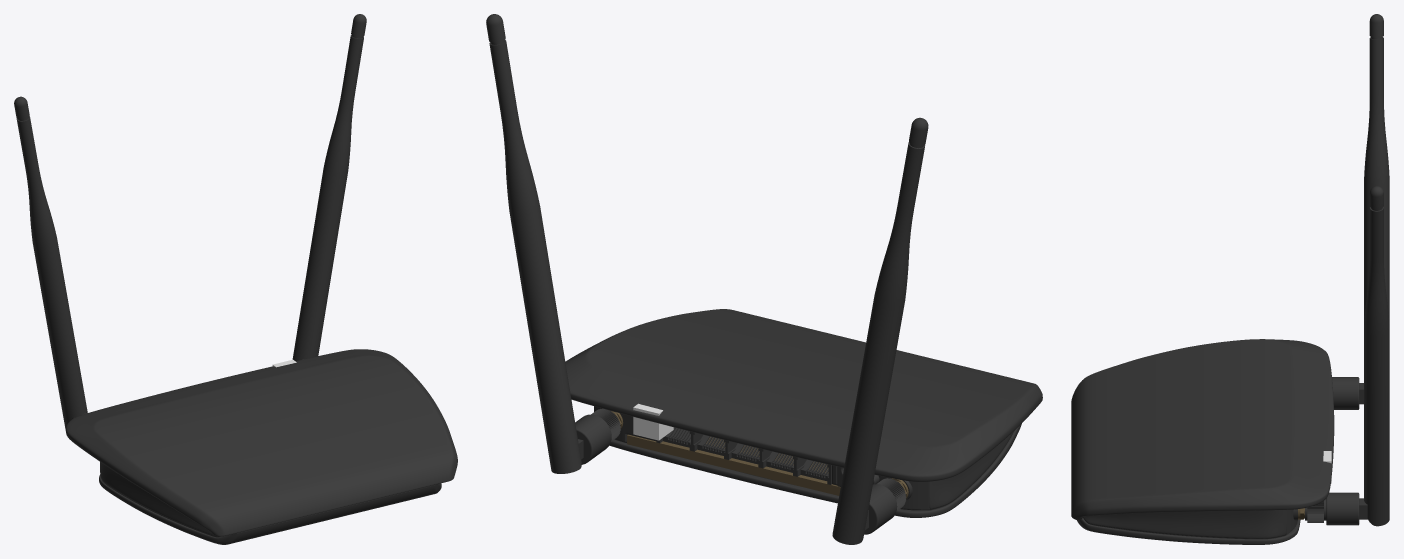
File: switch.glb
3 views of the same model, side by side, from view 1: azimuth 30°, elevation 25°; view 2: azimuth 150°, elevation 25°; view 3: azimuth 270°, elevation 25° (orthographic). The views are drawn at different scales.
Visible parts, largest first — view 1: Zyxel NBG-418N v2_p009, Zyxel NBG-418N v2_p003, Zyxel NBG-418N v2_p006, Zyxel NBG-418N v2_p008, Zyxel NBG-418N v2_p010; view 2: Zyxel NBG-418N v2_p009, Zyxel NBG-418N v2_p003, Zyxel NBG-418N v2_p006, Zyxel NBG-418N v2_p004, Zyxel NBG-418N v2_p008, Zyxel NBG-418N v2_p007, Zyxel NBG-418N v2_p010, Zyxel NBG-418N v2_p002, Zyxel NBG-418N v2_p001, Port; view 3: Zyxel NBG-418N v2_p009, Zyxel NBG-418N v2_p003, Zyxel NBG-418N v2_p010, Zyxel NBG-418N v2_p006, Zyxel NBG-418N v2_p007, Zyxel NBG-418N v2_p008, Zyxel NBG-418N v2_p002.
Part boxes in pixels (x1,y1,x2,y2): Zyxel NBG-418N v2_p009: (65, 349, 457, 536); Zyxel NBG-418N v2_p003: (292, 14, 366, 360); Zyxel NBG-418N v2_p006: (14, 96, 87, 429); Zyxel NBG-418N v2_p008: (99, 474, 441, 544); Zyxel NBG-418N v2_p010: (100, 462, 220, 537); Zyxel NBG-418N v2_p009: (565, 309, 1042, 481); Zyxel NBG-418N v2_p003: (486, 14, 581, 473); Zyxel NBG-418N v2_p006: (832, 117, 928, 544); Zyxel NBG-418N v2_p004: (627, 427, 840, 495); Zyxel NBG-418N v2_p008: (609, 423, 1021, 517); Zyxel NBG-418N v2_p007: (575, 408, 624, 464); Zyxel NBG-418N v2_p010: (929, 431, 1013, 510); Zyxel NBG-418N v2_p002: (864, 478, 912, 534); Zyxel NBG-418N v2_p001: (832, 465, 929, 510); Port: (633, 403, 673, 440); Zyxel NBG-418N v2_p009: (1071, 339, 1334, 520); Zyxel NBG-418N v2_p003: (1364, 186, 1389, 526); Zyxel NBG-418N v2_p010: (1083, 510, 1286, 539); Zyxel NBG-418N v2_p006: (1364, 14, 1389, 324); Zyxel NBG-418N v2_p007: (1293, 492, 1367, 525); Zyxel NBG-418N v2_p008: (1077, 518, 1300, 544); Zyxel NBG-418N v2_p002: (1332, 377, 1363, 409).
Size of the model in its own units: 34.2 by 33.89 by 25.86.
